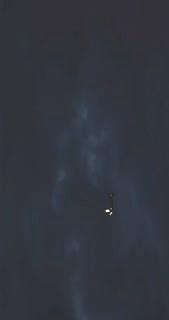Plane: (98, 202, 118, 221)
